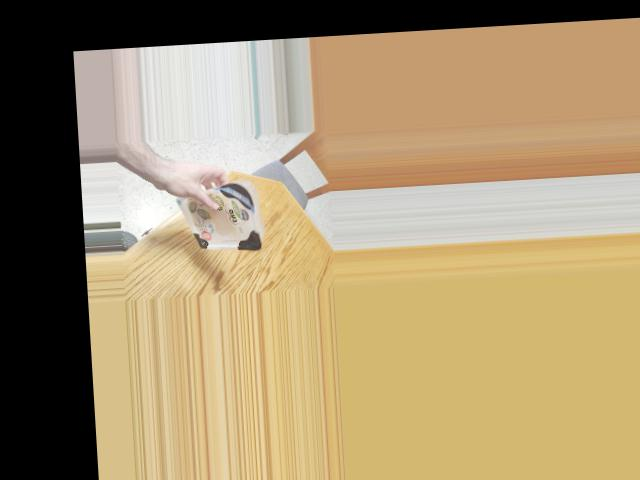cheese: (191, 177, 269, 250)
